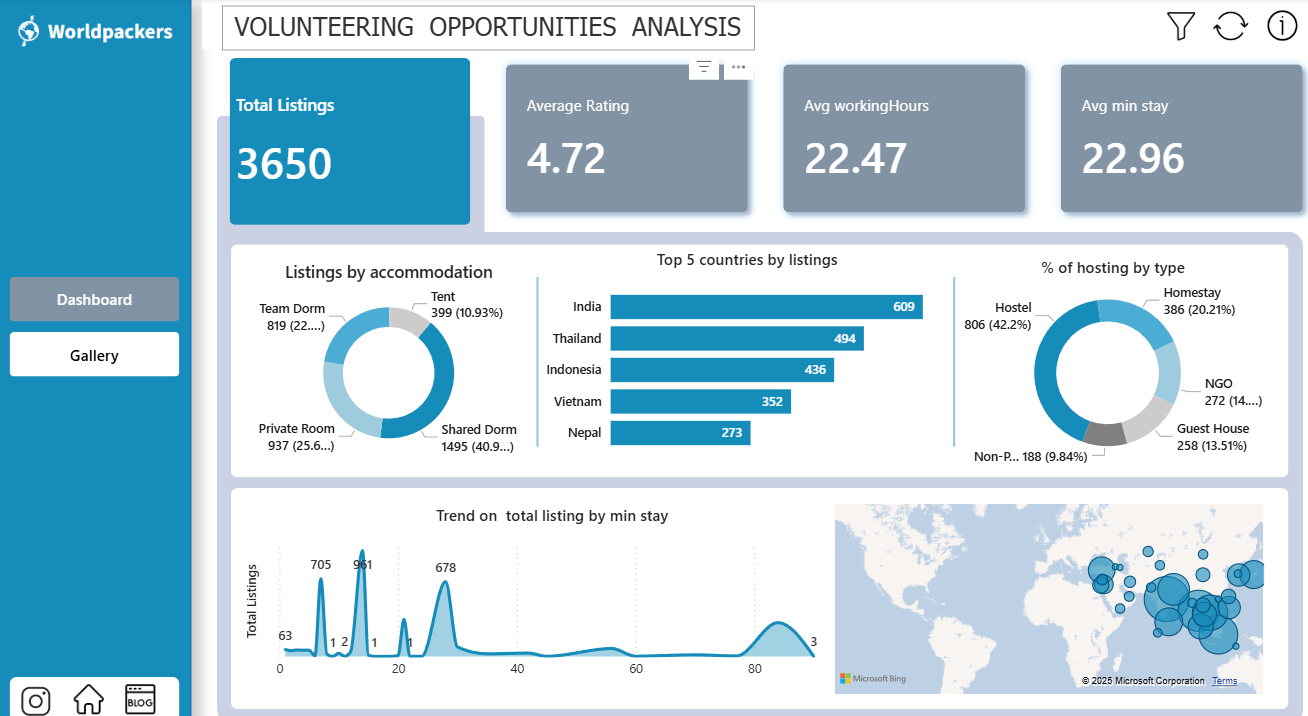

This screenshot's page, from the dashboard's own definition file:
{"tool":"powerbi","page":{"name":"Dashboard","canvas":[1280,720],"ordinal":0},"visuals":[{"type":"shape","box":[210.9,224.1,1041.5,472.2],"z":0},{"type":"shape","box":[210.6,112.5,256.8,272.7],"z":1000},{"type":"cardVisual","fields":{"Data":["public packers.Avg_workingHours"]},"box":[737.1,46.7,266.1,176.2],"z":2000},{"type":"cardVisual","fields":{"Data":["public packers.Average_Rating"]},"box":[471,46.7,266.1,176.2],"z":3000},{"type":"shape","box":[223.6,236.6,1014.3,223.6],"z":4000},{"type":"cardVisual","fields":{"Data":["public packers.Avg_min_stay"]},"box":[1003.1,46.7,266.1,176.2],"z":5000},{"type":"shape","box":[223.6,470.3,1014.3,212.1],"z":6000},{"type":"barChart","title":"Top 5 countries by listings","fields":{"Category":["public packers.country"],"Y":["public packers.Total_Listings"]},"box":[517.1,240,405.7,207.1],"z":7000},{"type":"donutChart","title":"Listings by accommodation","fields":{"Category":["public packers.accommodation"],"Y":["public packers.Total_Listings"]},"box":[224.1,250.5,303.2,196.6],"z":8000},{"type":"donutChart","title":"Top 5 listings by Hosttype ","fields":{"Category":["public packers.host_type"],"Y":["public packers.Total_Listings"]},"box":[892.9,262.9,344.3,194.3],"z":9000},{"type":"lineChart","title":"Trend on  total listing by min stay","fields":{"Category":["public packers.min_stay"],"Y":["public packers.Total_Listings"]},"box":[234.9,511.8,563.3,149.8],"z":10000},{"type":"map","fields":{"Category":["public packers.country"],"Size":["public packers.Total_Listings"]},"box":[798.6,480,421.4,191.4],"z":11000},{"type":"card","fields":{"Values":["public packers.T1"]},"box":[381.4,460,302.9,75.7],"z":12000},{"type":"card","fields":{"Values":["public packers.T2"]},"box":[917.1,222.9,302.9,75.7],"z":13000},{"type":"shape","box":[511.4,267.1,12.9,162.9],"z":14000},{"type":"shape","box":[904.3,267.1,25.7,162.9],"z":15000},{"type":"shape","box":[0,0,186.2,712.5],"z":16000},{"type":"shape","box":[196.2,0,1083.8,50],"z":17000},{"type":"card","fields":{"Values":["public packers.T3"]},"box":[216.2,7.5,510,42.5],"z":18000},{"type":"cardVisual","fields":{"Data":["public packers.Total_Listings"]},"box":[218.6,52.9,241.4,170],"z":19000},{"type":"pageNavigator","box":[12.5,267.5,163.8,96.2],"z":20000},{"type":"image","box":[1161.3,3.6,43.1,46.7],"z":21000},{"type":"image","box":[5,0,176.2,61.2],"z":22000},{"type":"shape","box":[11.5,650.7,163,43.3],"z":23000},{"type":"image","box":[1204.5,0,56.3,52.7],"z":24000},{"type":"image","box":[11.5,650.7,50.5,47.6],"z":25000},{"type":"image","box":[62,653.6,50.5,39],"z":26000},{"type":"image","box":[116.9,653.6,40.4,39],"z":27000},{"type":"image","box":[1116.7,6.7,36.7,40],"z":28000}]}

Visuals, with their boxes on the page's 1280x720 design canvas (x1, y1, x2, y2). These are canvas units, not pixel positions in the 1308x716 screenshot, which may show the page scaled, cropped or inside an application window:
shape: bbox=(211, 224, 1252, 696)
shape: bbox=(211, 112, 467, 385)
cardVisual - public packers.Avg_workingHours: bbox=(737, 47, 1003, 223)
cardVisual - public packers.Average_Rating: bbox=(471, 47, 737, 223)
shape: bbox=(224, 237, 1238, 460)
cardVisual - public packers.Avg_min_stay: bbox=(1003, 47, 1269, 223)
shape: bbox=(224, 470, 1238, 682)
"Top 5 countries by listings" barChart: bbox=(517, 240, 923, 447)
"Listings by accommodation" donutChart: bbox=(224, 250, 527, 447)
"Top 5 listings by Hosttype " donutChart: bbox=(893, 263, 1237, 457)
"Trend on  total listing by min stay" lineChart: bbox=(235, 512, 798, 662)
map - public packers.country x public packers.Total_Listings: bbox=(799, 480, 1220, 671)
card - public packers.T1: bbox=(381, 460, 684, 536)
card - public packers.T2: bbox=(917, 223, 1220, 299)
shape: bbox=(511, 267, 524, 430)
shape: bbox=(904, 267, 930, 430)
shape: bbox=(0, 0, 186, 712)
shape: bbox=(196, 0, 1280, 50)
card - public packers.T3: bbox=(216, 8, 726, 50)
cardVisual - public packers.Total_Listings: bbox=(219, 53, 460, 223)
pageNavigator: bbox=(12, 268, 176, 364)
image: bbox=(1161, 4, 1204, 50)
image: bbox=(5, 0, 181, 61)
shape: bbox=(12, 651, 174, 694)
image: bbox=(1204, 0, 1261, 53)
image: bbox=(12, 651, 62, 698)
image: bbox=(62, 654, 112, 693)
image: bbox=(117, 654, 157, 693)
image: bbox=(1117, 7, 1153, 47)
